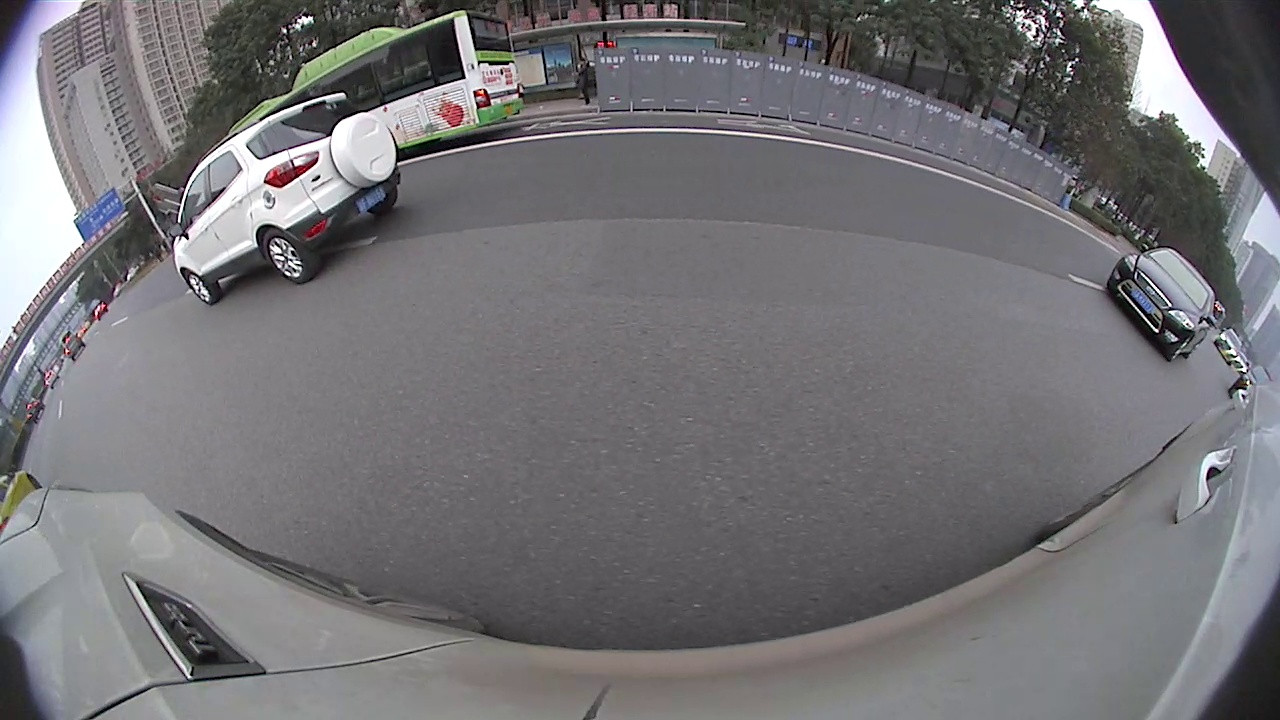bus: (891, 0, 1279, 454), (746, 136, 853, 171)
car: (251, 121, 504, 287), (507, 119, 683, 251), (733, 152, 861, 222), (687, 161, 734, 195), (871, 190, 893, 217), (491, 162, 505, 192)
front: (928, 218, 1011, 321), (482, 190, 505, 227), (870, 195, 888, 220), (729, 178, 742, 202)
rear: (385, 204, 430, 270), (762, 183, 779, 214)
